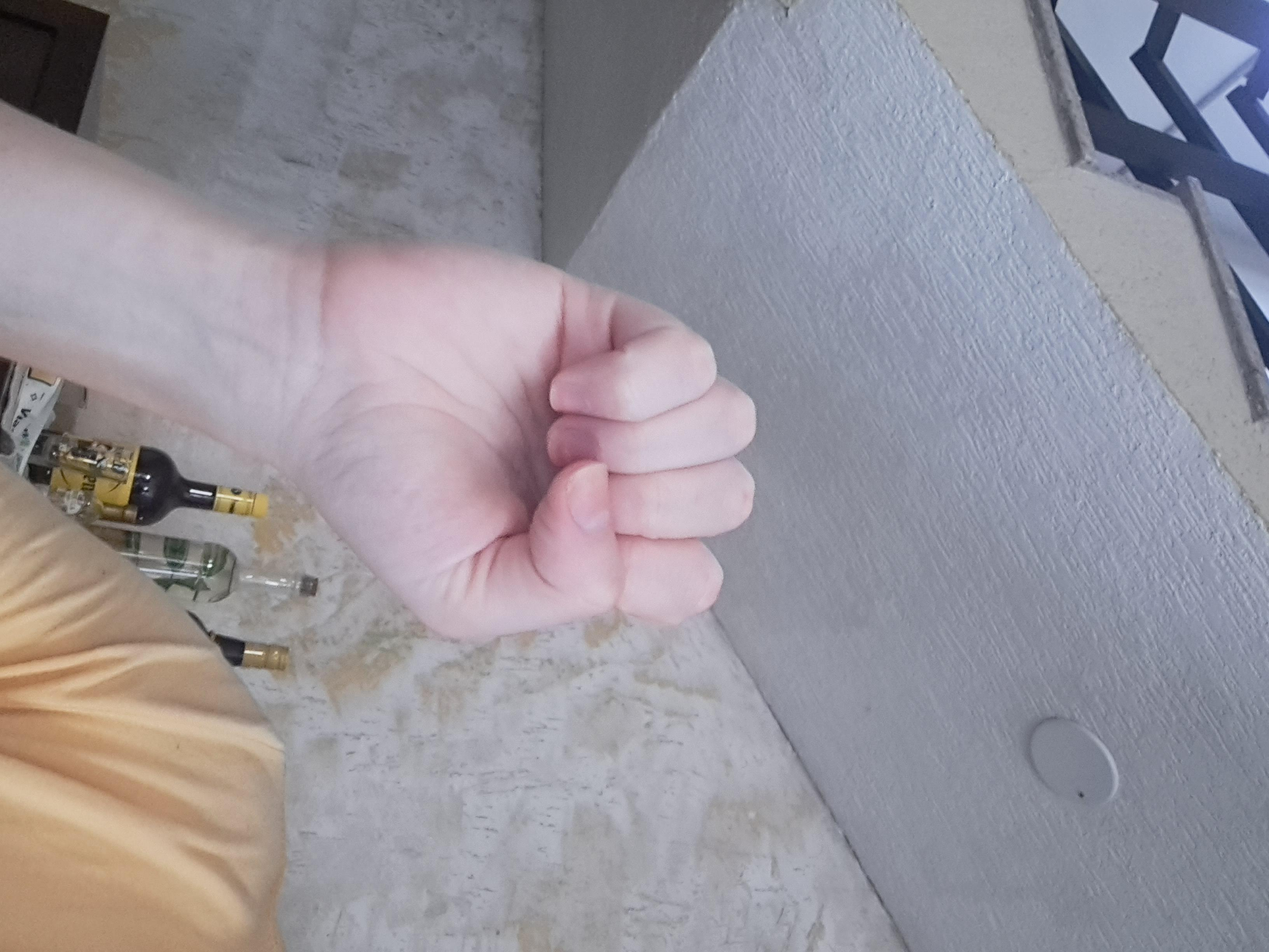S: (295, 385, 881, 715)
